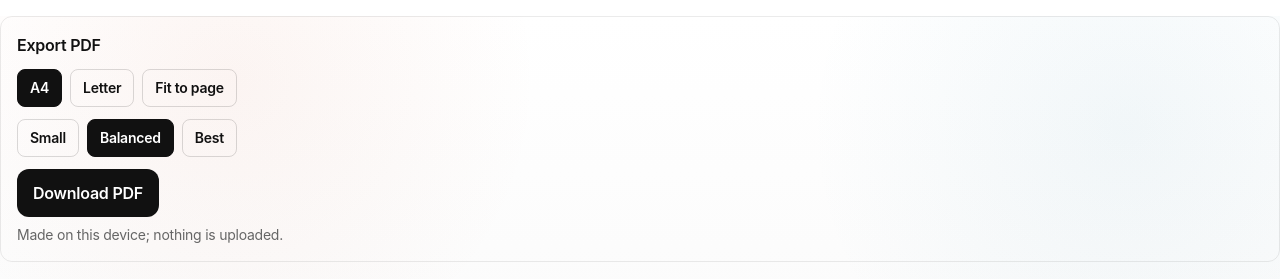
Test case: ExportPanel › offers a download where sharing files is not possible
The width and height of the screenshot is (1280, 279).
Click the button "Download PDF" at (88, 193), box [17,169,159,217]
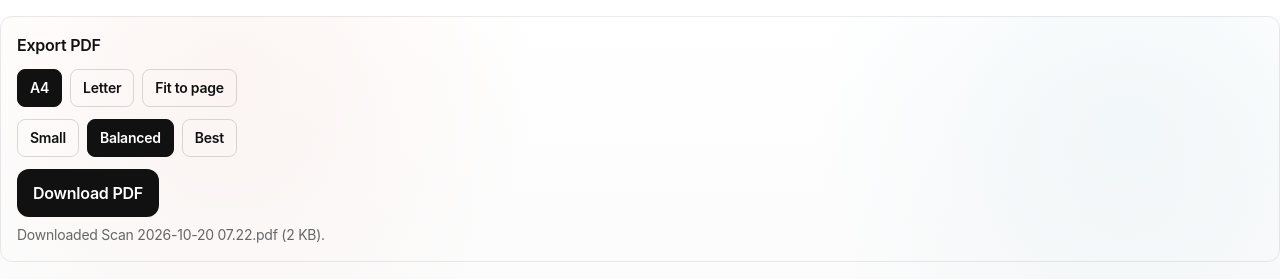
Now the text "Downloaded Scan 2026-10-20 07.22.pdf (2 KB)." is shown, box [17,226,325,243]
